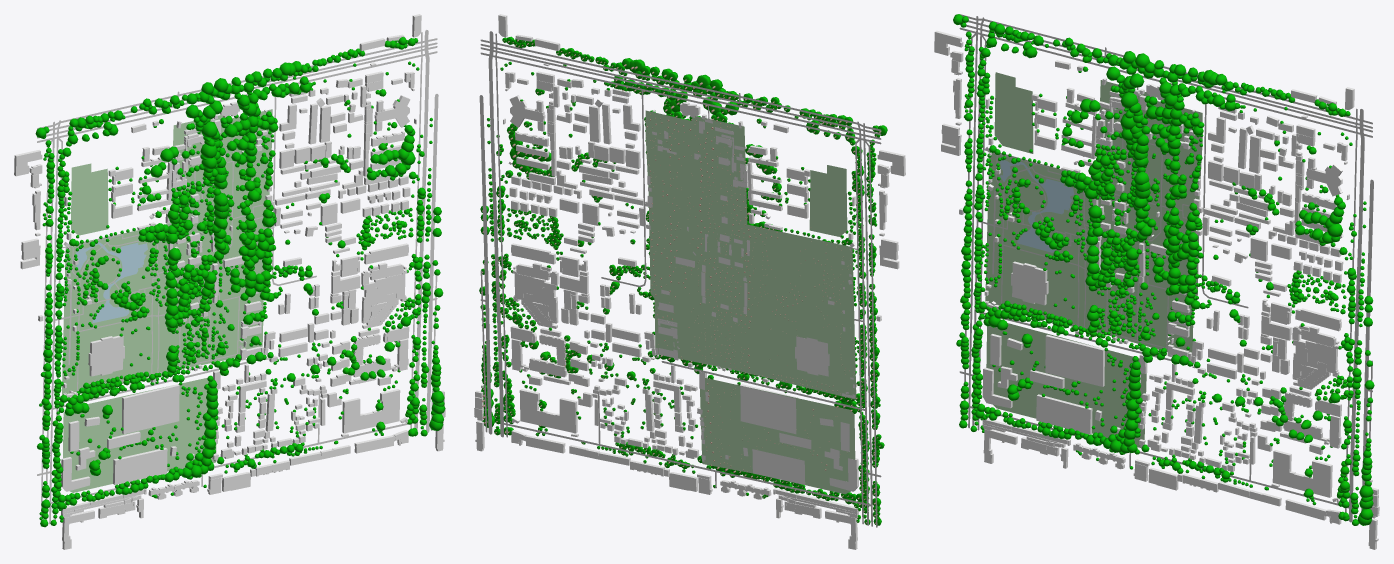
3 views of the same model, side by side, from view 1: azimuth 30°, elevation 25°; view 2: azimuth 150°, elevation 25°; view 3: azimuth 330°, elevation 25° (orthographic). The views are drawn at different scales.
Parts seen in each view (by area): view 1: TPX_Buildings, TPX_GreenAreas, TPX_RoadsOutlines, TPX_Waterways_1; view 2: TPX_GreenAreas, TPX_Buildings, TPX_RoadsOutlines; view 3: TPX_Buildings, TPX_GreenAreas, TPX_RoadsOutlines, TPX_Waterways_1.
Boxes of the visible parts, bbox=[...] form: TPX_Buildings: bbox=[14, 14, 445, 549]; TPX_GreenAreas: bbox=[62, 109, 272, 492]; TPX_RoadsOutlines: bbox=[37, 30, 438, 525]; TPX_Waterways_1: bbox=[76, 242, 147, 322]; TPX_GreenAreas: bbox=[645, 110, 856, 494]; TPX_Buildings: bbox=[474, 14, 905, 549]; TPX_RoadsOutlines: bbox=[479, 31, 881, 527]; TPX_Buildings: bbox=[934, 30, 1379, 549]; TPX_GreenAreas: bbox=[985, 72, 1202, 448]; TPX_RoadsOutlines: bbox=[959, 14, 1373, 522]; TPX_Waterways_1: bbox=[1000, 160, 1074, 252].
Size of the model in its own units: 819 by 815 by 30.
